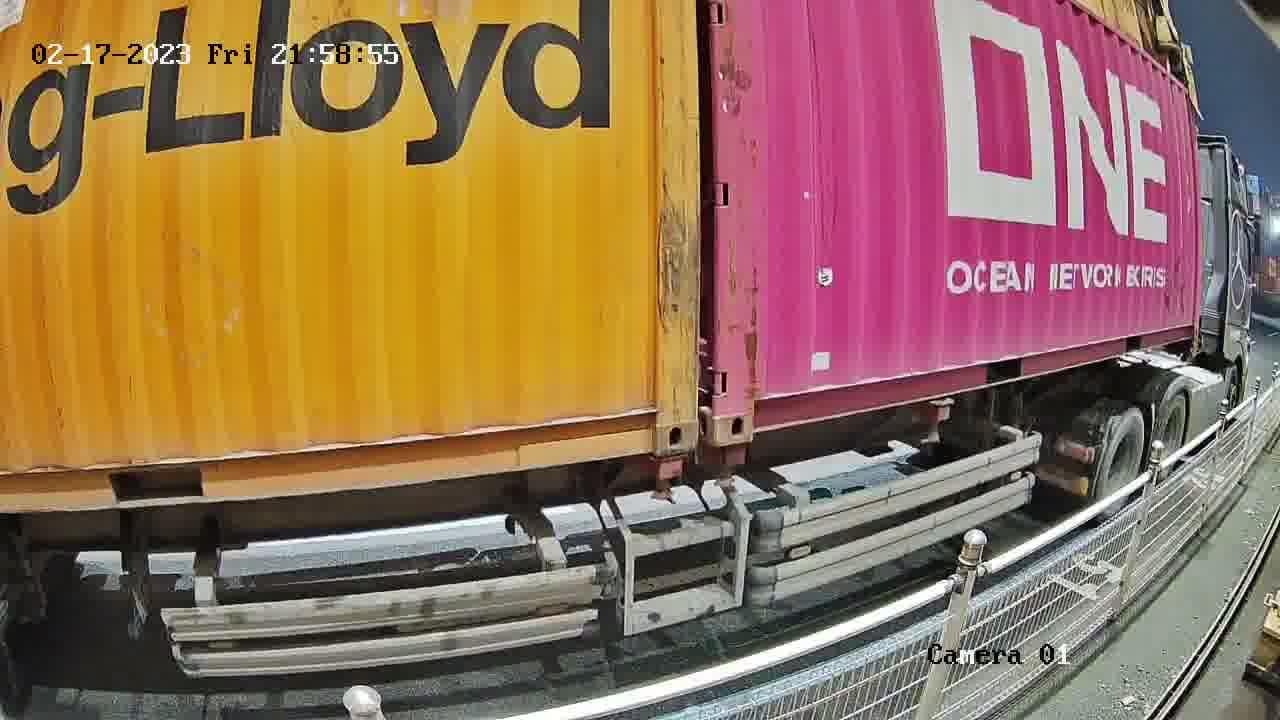Cone: (646, 452, 690, 503), (712, 444, 750, 492)
Hole_L: (717, 374, 788, 444)
Hole_R: (621, 388, 701, 456)
Tire: (1101, 411, 1146, 510), (1156, 392, 1188, 475)
